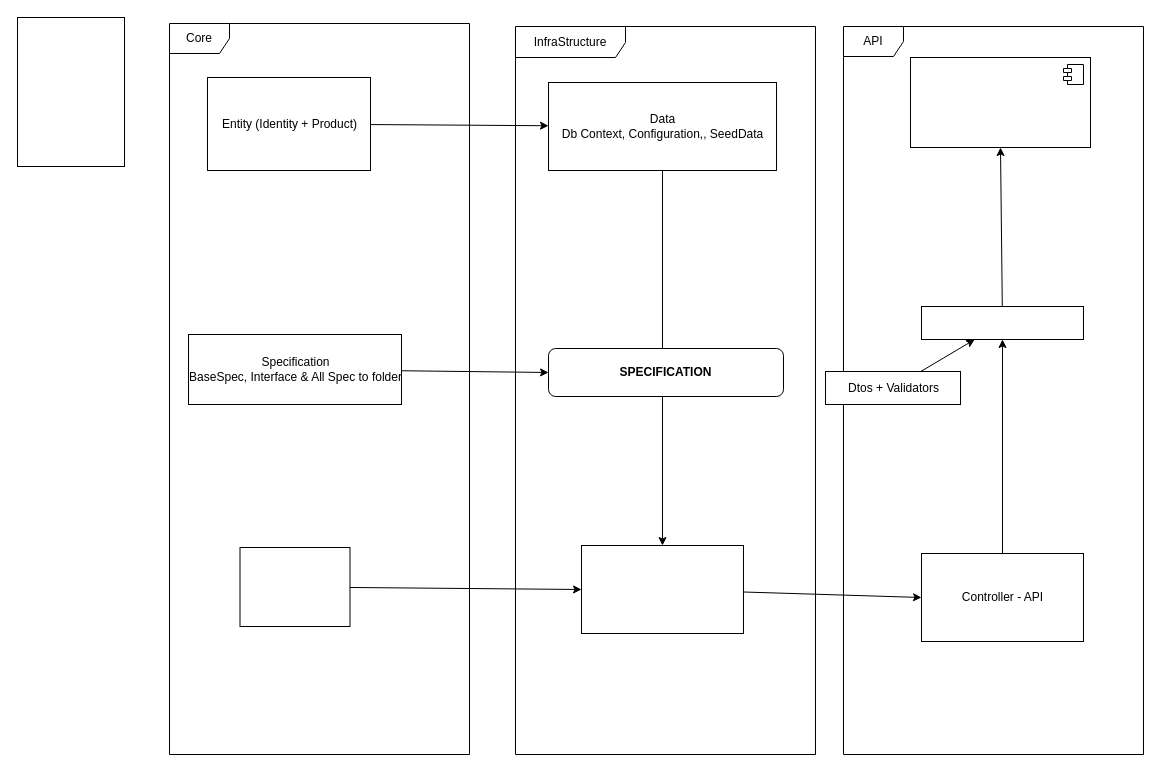
This 1161x772 diagram has some shape labels left out. Each missing label, with the centre of its shape:
CLIENT: the point at 1000,102
Extension/Mappler/Error: the point at 1002,323
Interface UnitofWork Services Repository: the point at 294,586
Resopository UnitofWork Repository: the point at 662,589
Service -Email -Upfile - ...: the point at 70,91
